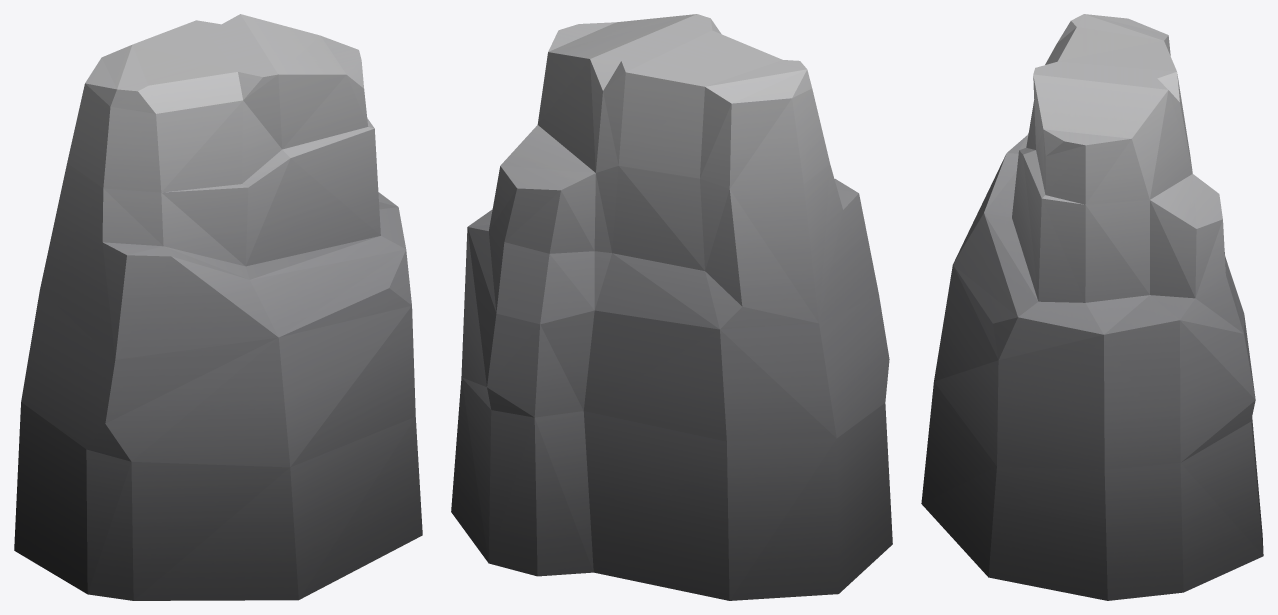
The model's file is RockCliff-01.FBX.
3 views of the same model, side by side, from view 1: azimuth 30°, elevation 25°; view 2: azimuth 150°, elevation 25°; view 3: azimuth 270°, elevation 25° (orthographic). The views are drawn at different scales.
Visible parts, largest first — view 1: RockCliff-01; view 2: RockCliff-01; view 3: RockCliff-01.
Boxes of the visible parts, <box> form: RockCliff-01: <box>14,14,422,600</box>; RockCliff-01: <box>451,14,892,600</box>; RockCliff-01: <box>921,14,1263,600</box>.
Bounding box in the file's own units: 1054 × 1278 × 886.
1 material, 1 textured.
